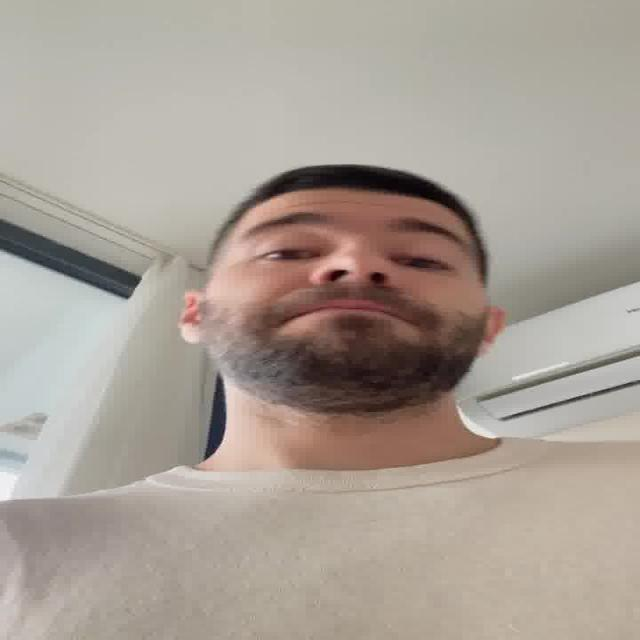earlobe: (180, 330, 207, 346), (468, 343, 491, 361)
eye: (396, 253, 457, 272), (257, 245, 324, 262)
nose: (315, 276, 397, 303)
wholeear: (469, 305, 507, 361), (177, 289, 208, 345)
